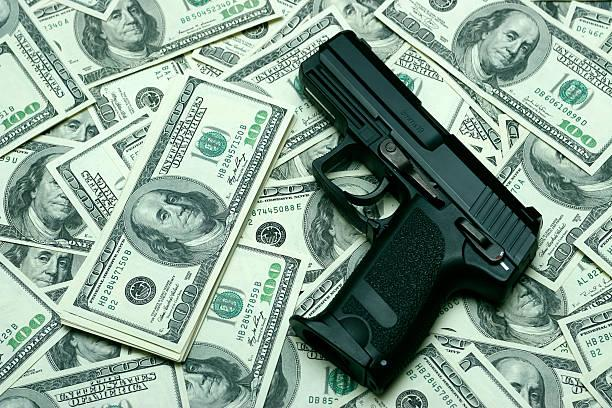weapon: (288, 27, 545, 398)
